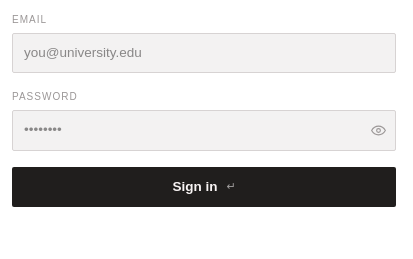
Scenario: mentor authentication flow › shows a stable invalid-credential error
The width and height of the screenshot is (413, 259).
Type "mentor@example.test" into the field labelled "Email" at (204, 53), box [12,33,396,73]
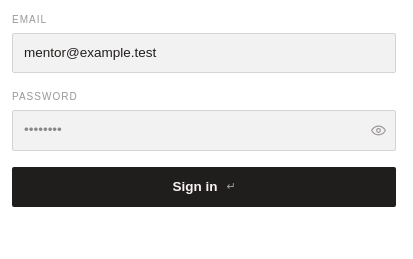
Type "wrong-password" into the password field labelled "Password" at (204, 130), box [12,110,396,151]
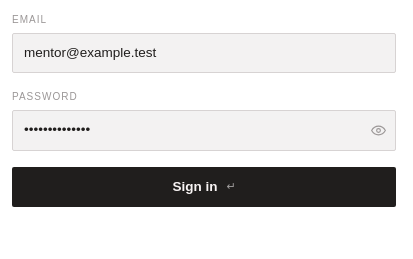
Click the button "Sign in ↵" at (204, 187), box [12,166,396,207]
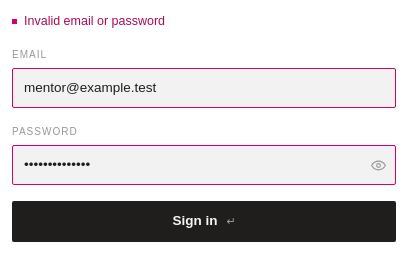
Check: the message reads "Invalid email or password", box [24,14,165,28]
